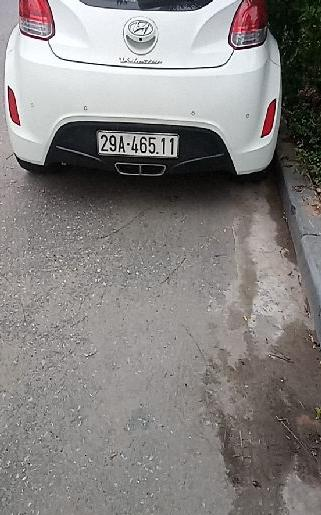Plate-iWeP: (96, 130, 179, 159)
